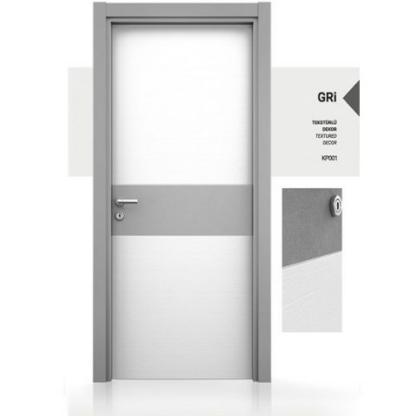door: (111, 23, 251, 378)
